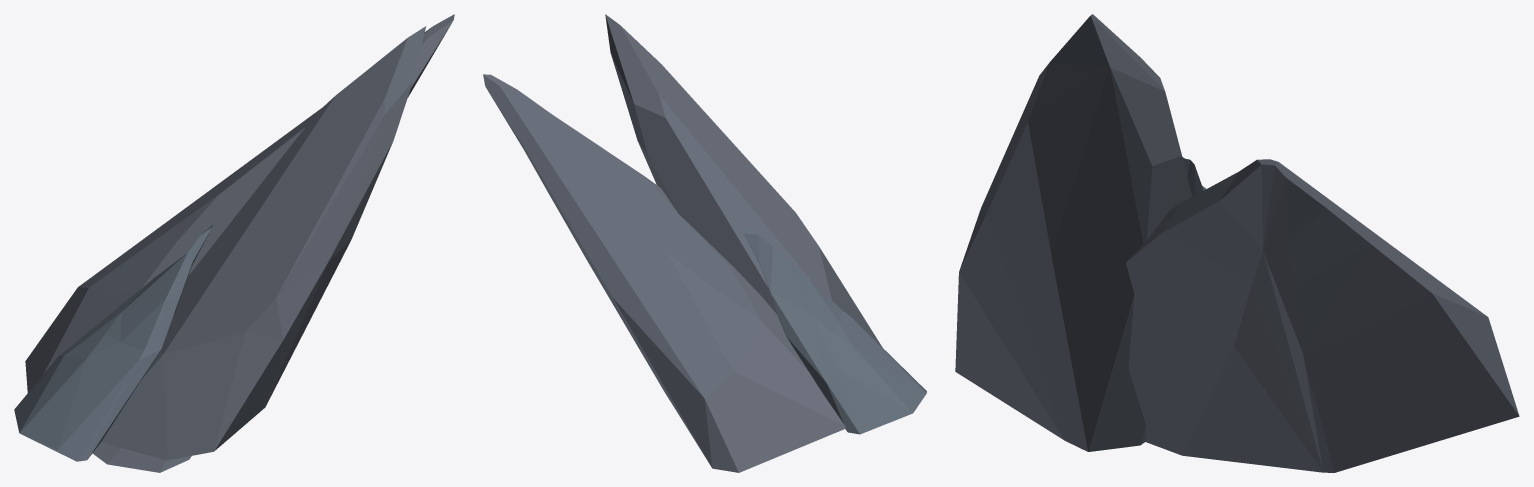
The model's file is Rocks_Sharp_l_01.fbx.
3 renders of one model, left to right at view 1: azimuth 30°, elevation 25°; view 2: azimuth 150°, elevation 25°; view 3: azimuth 270°, elevation 25°, orthographic. The views are drawn at different scales.
Visible parts, largest first — view 1: Rocks_Sharp_l_01; view 2: Rocks_Sharp_l_01; view 3: Rocks_Sharp_l_01.
Boxes of the visible parts, x1=… form: Rocks_Sharp_l_01: x1=14, y1=14, x2=454, y2=472; Rocks_Sharp_l_01: x1=483, y1=14, x2=926, y2=472; Rocks_Sharp_l_01: x1=955, y1=14, x2=1519, y2=472.
Size of the model in its own units: 14.24 by 10.62 by 8.97.
